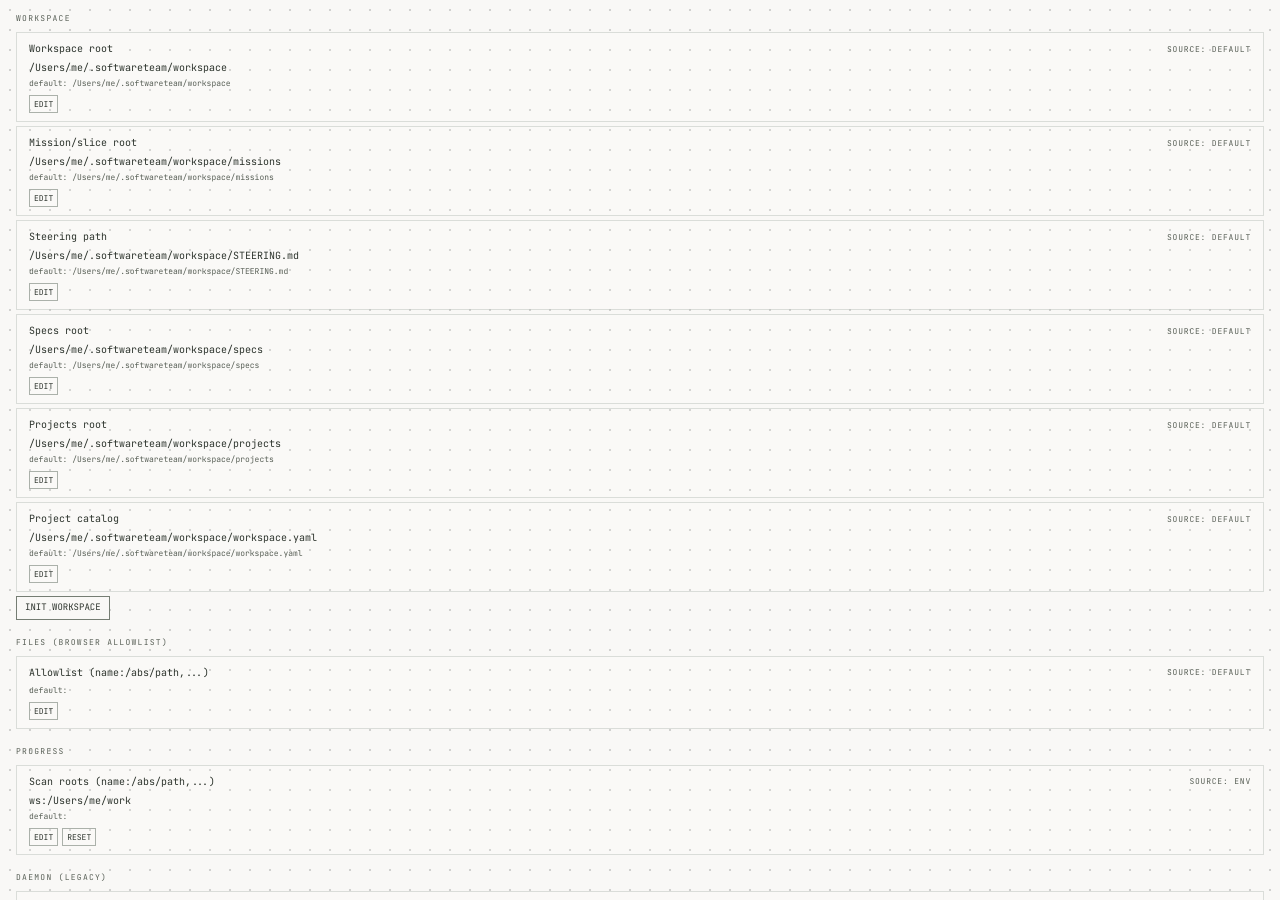
SettingsTab — User Settings v0 › Init Workspace button POSTs to /api/config/init-workspace
Click the button with test id "settings-init-workspace".
click(63, 608)  # box x1=16 y1=596 x2=110 y2=620
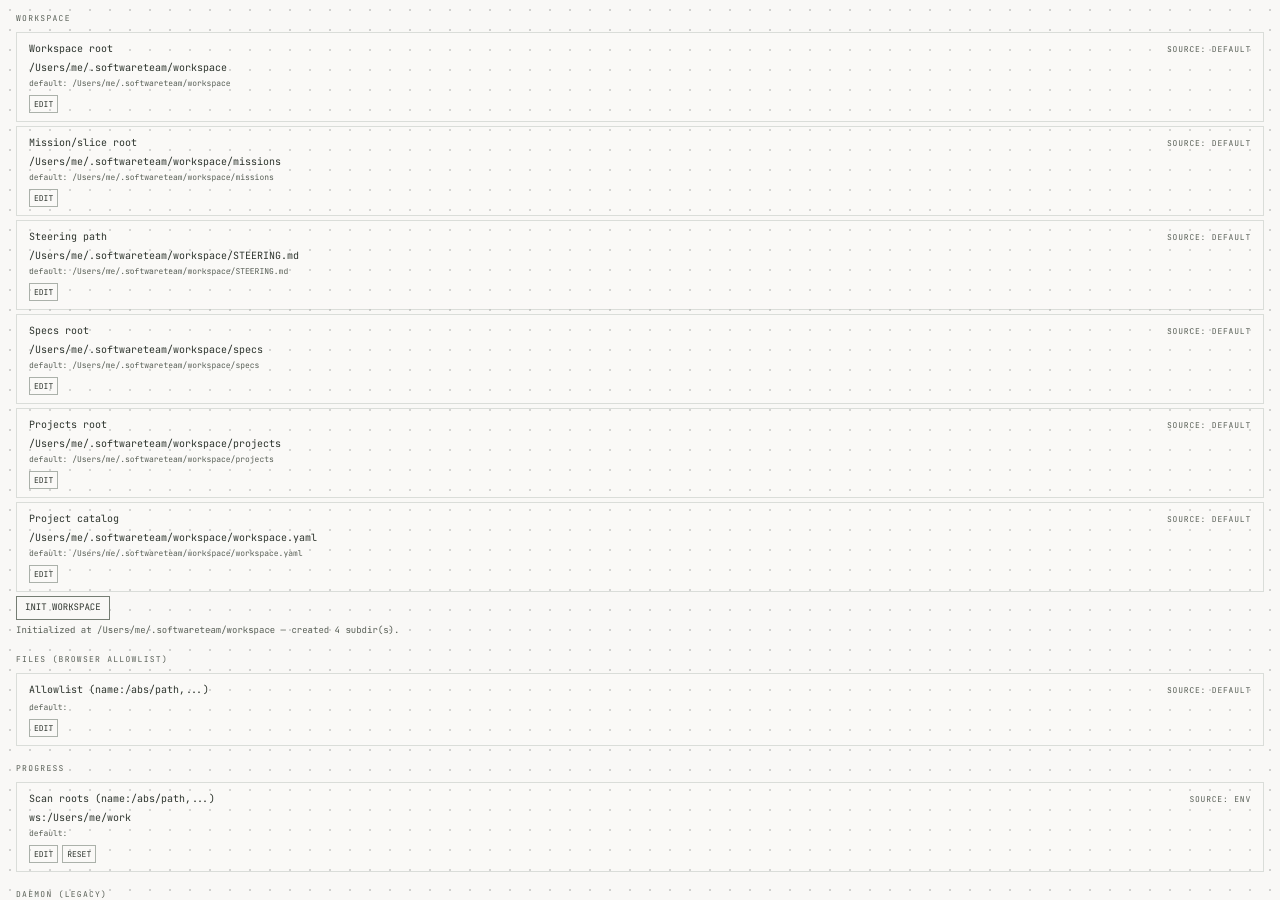
Check: the text with test id "settings-init-result" shows "created 4 subdir", box x1=16 y1=624 x2=399 y2=636
